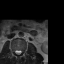CCS_normal: (17, 47, 19, 57)
LFS_normal: (21, 48, 23, 54)
LLS_normal: (19, 47, 21, 55)
RFS_normal: (13, 47, 15, 53)
RLS_normal: (15, 47, 17, 55)
